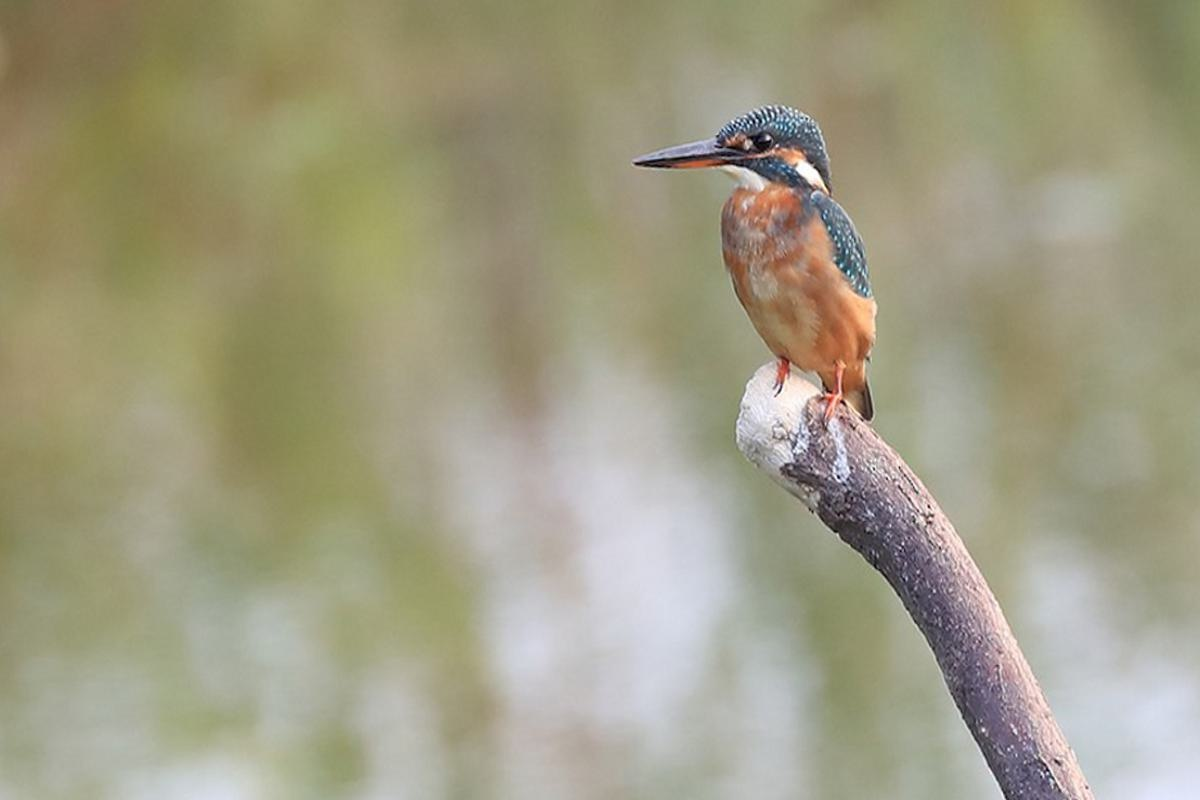kingfisher: (638, 74, 868, 428)
